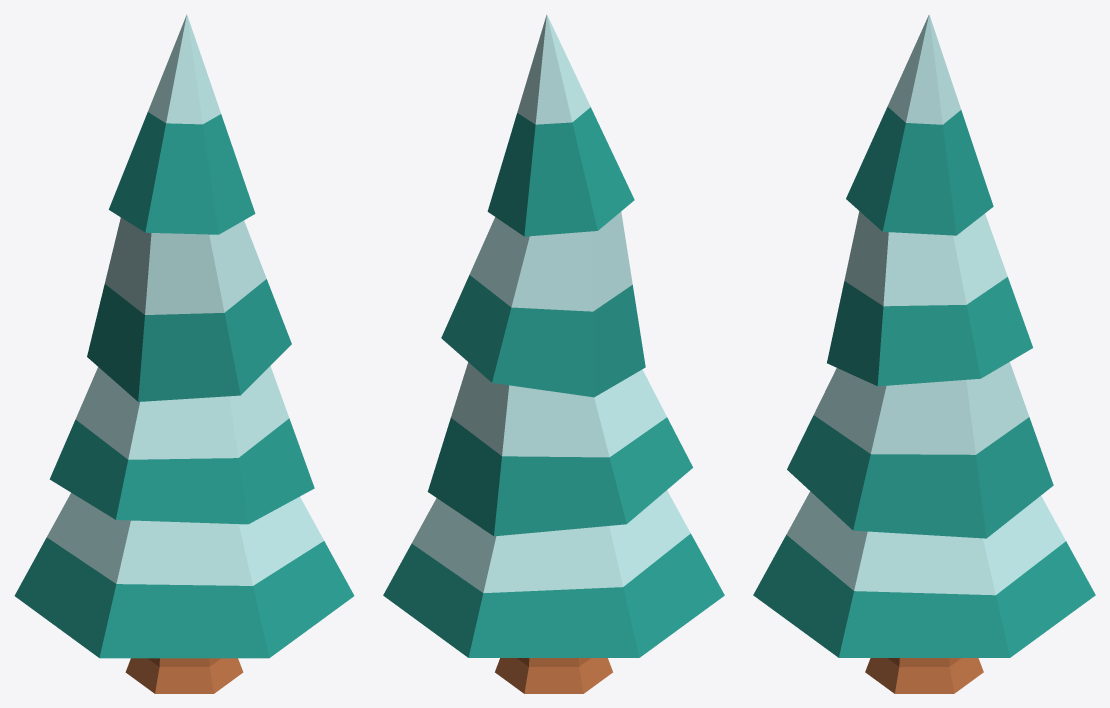
Rendered from treePineSnow.fbx.
The picture shows the model from 3 angles, left to right: view 1: azimuth 30°, elevation 25°; view 2: azimuth 150°, elevation 25°; view 3: azimuth 270°, elevation 25°; orthographic projection.
Parts seen in each view (by area): view 1: treePineSnow; view 2: treePineSnow; view 3: treePineSnow.
Part boxes in pixels (x1,y1,x2,y2): treePineSnow: (14, 14, 354, 693); treePineSnow: (383, 14, 724, 693); treePineSnow: (753, 14, 1095, 693).
Size of the model in its own units: 6.51 by 15.98 by 7.52.
